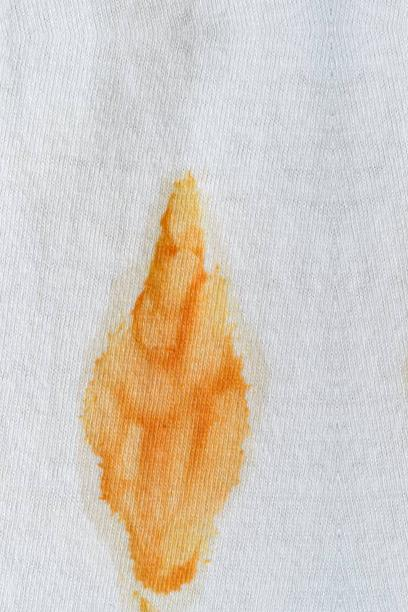stain: (87, 167, 259, 609)
